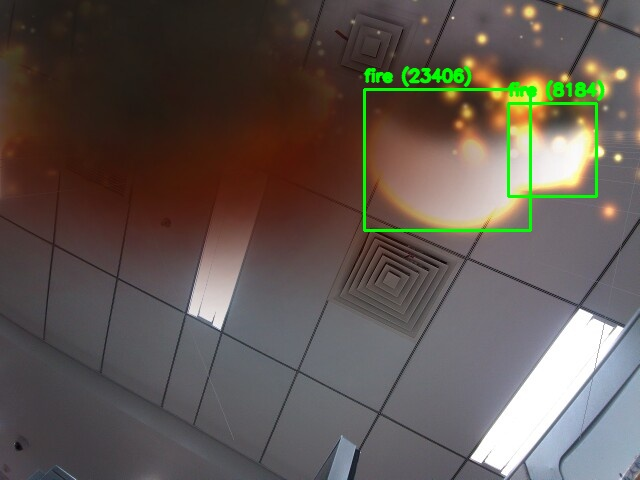fire: (364, 89, 530, 230), (508, 103, 596, 196)
